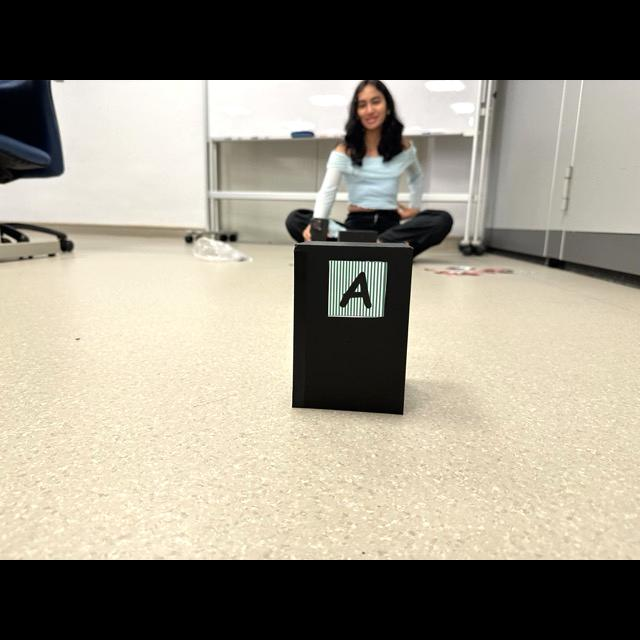A: (340, 272, 371, 308)
